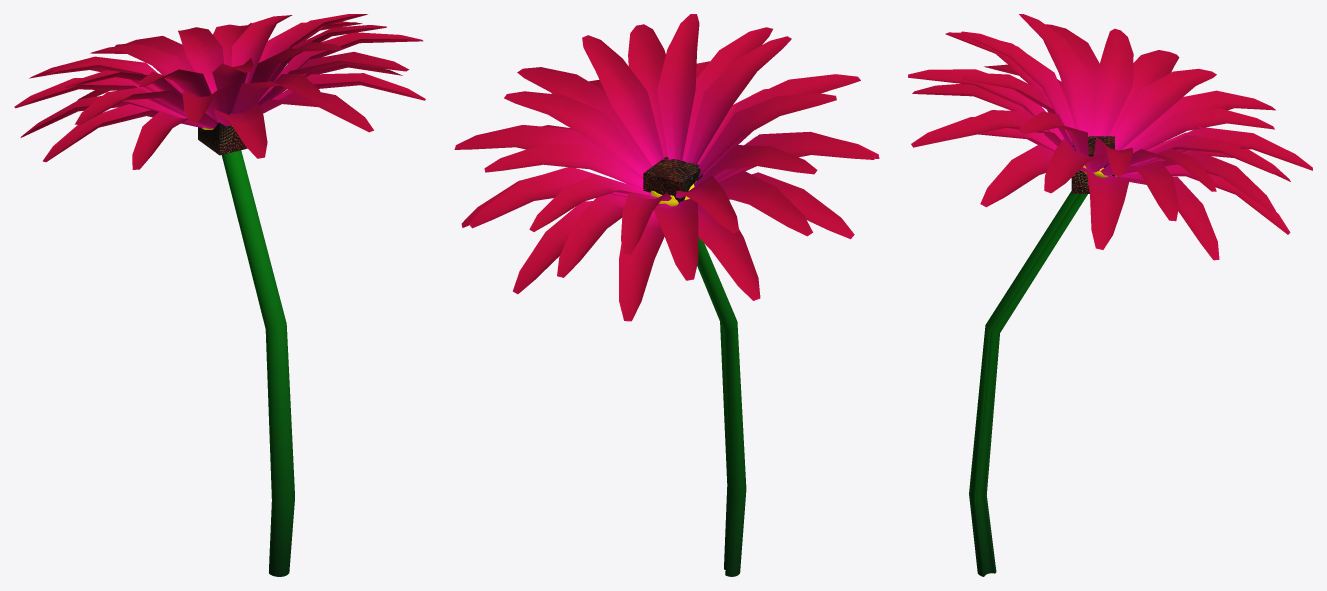
Rendered from flor.fbx.
3 renders of one model, left to right at view 1: azimuth 30°, elevation 25°; view 2: azimuth 150°, elevation 25°; view 3: azimuth 270°, elevation 25°, orthographic. The views are drawn at different scales.
Visible parts, largest first — view 1: extrudedSurface1, pPlane15, pPlane2, pPlane20, pPlane13, pPlane23, pPlane4, pPlane24, pPlane21, pPlane25, pPlane8, pPlane6 (+16 smaller); view 2: extrudedSurface1, pPlane7, pPlane9, pPlane11, pPlane5, pPlane13, pPlane3, pPlane26, pPlane18, pPlane16, pPlane30, pPlane27 (+14 smaller); view 3: extrudedSurface1, pPlane1, pPlane19, pPlane3, pPlane17, pPlane10, pPlane8, pPlane5, pPlane29, pPlane12, pPlane28, pPlane30 (+16 smaller).
Part boxes in pixels (x1,y1,x2,y2): extrudedSurface1: (221, 150, 294, 576); pPlane15: (178, 27, 223, 93); pPlane2: (132, 111, 217, 169); pPlane20: (43, 104, 203, 162); pPlane13: (231, 15, 292, 83); pPlane23: (232, 74, 323, 113); pPlane4: (213, 102, 267, 158); pPlane24: (258, 51, 409, 105); pPlane21: (75, 87, 185, 124); pPlane25: (258, 32, 423, 101); pPlane8: (272, 73, 425, 100); pPlane6: (259, 92, 373, 132); extrudedSurface1: (697, 237, 746, 576); pPlane7: (657, 14, 699, 161); pPlane9: (582, 35, 664, 166); pPlane11: (504, 91, 649, 177); pPlane5: (685, 36, 791, 166); pPlane13: (484, 144, 645, 189); pPlane3: (696, 93, 836, 179); pPlane26: (454, 125, 643, 190); pPlane18: (698, 204, 760, 300); pPlane16: (619, 210, 664, 321); pPlane30: (684, 171, 812, 236); pPlane27: (469, 167, 627, 228); extrudedSurface1: (969, 191, 1087, 576); pPlane1: (1093, 28, 1133, 136); pPlane19: (1114, 68, 1216, 150); pPlane3: (1019, 14, 1089, 136); pPlane17: (1128, 108, 1274, 153); pPlane10: (1086, 168, 1129, 249); pPlane8: (980, 144, 1092, 207); pPlane5: (960, 31, 1072, 144); pPlane29: (1122, 90, 1275, 149); pPlane12: (1108, 174, 1219, 260); pPlane28: (1130, 126, 1312, 170); pPlane30: (1109, 50, 1179, 136).
Bounding box in the file's own units: 4.22 × 5.9 × 4.17.
